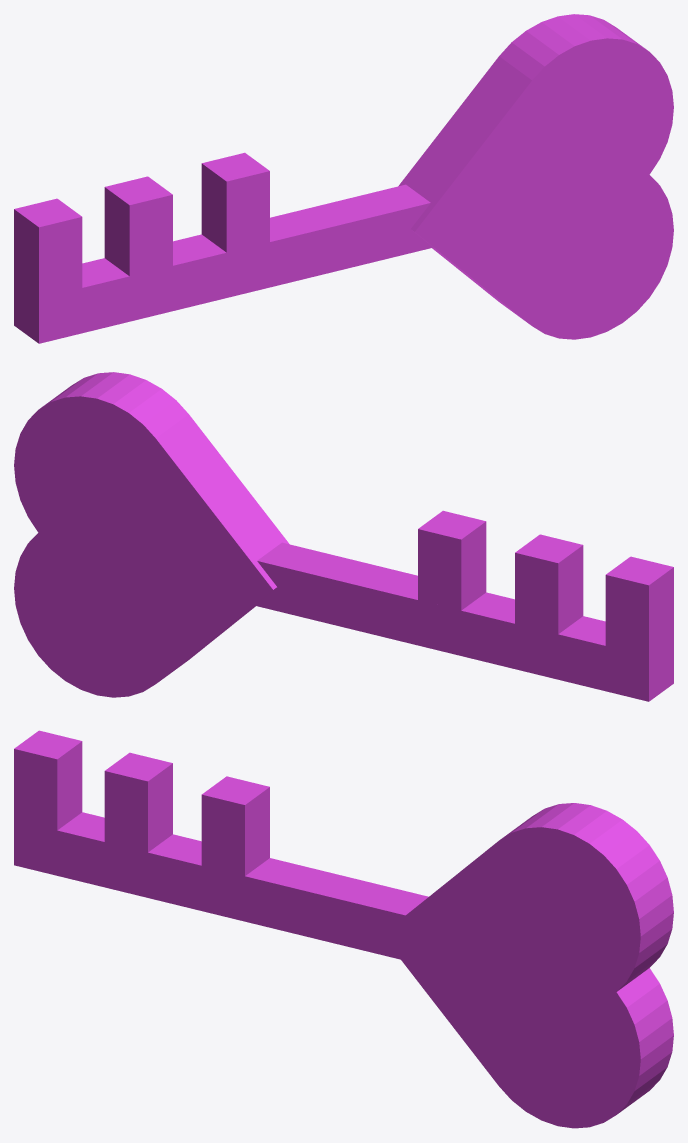
The model's file is Key_Heart_C.fbx.
3 renders of one model, top to bottom at view 1: azimuth 30°, elevation 25°; view 2: azimuth 150°, elevation 25°; view 3: azimuth 330°, elevation 25°, orthographic.
Parts seen in each view (by area): view 1: Cylinder.001, Cube.003, Cube, Cube.001, Cube.002; view 2: Cylinder.001, Cube.003, Cube, Cube.001, Cube.002; view 3: Cylinder.001, Cube.003, Cube.002, Cube.001, Cube.
Boxes of the visible parts, bbox=[...] form: Cylinder.001: bbox=[398, 14, 673, 339]; Cube.003: bbox=[56, 184, 433, 339]; Cube: bbox=[14, 198, 82, 343]; Cube.001: bbox=[104, 176, 172, 321]; Cube.002: bbox=[201, 152, 269, 297]; Cylinder.001: bbox=[14, 372, 289, 697]; Cube.003: bbox=[254, 542, 605, 691]; Cube: bbox=[605, 556, 673, 701]; Cube.001: bbox=[515, 534, 583, 678]; Cube.002: bbox=[418, 510, 486, 610]; Cylinder.001: bbox=[382, 803, 673, 1128]; Cube.003: bbox=[31, 812, 428, 959]; Cube.002: bbox=[201, 776, 269, 921]; Cube.001: bbox=[104, 752, 172, 897]; Cube: bbox=[14, 730, 82, 875].
Bounding box in the file's own units: 270 × 121 × 24.55.
